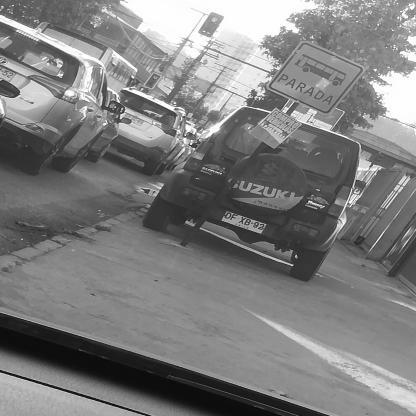Patente: (221, 210, 269, 233)
